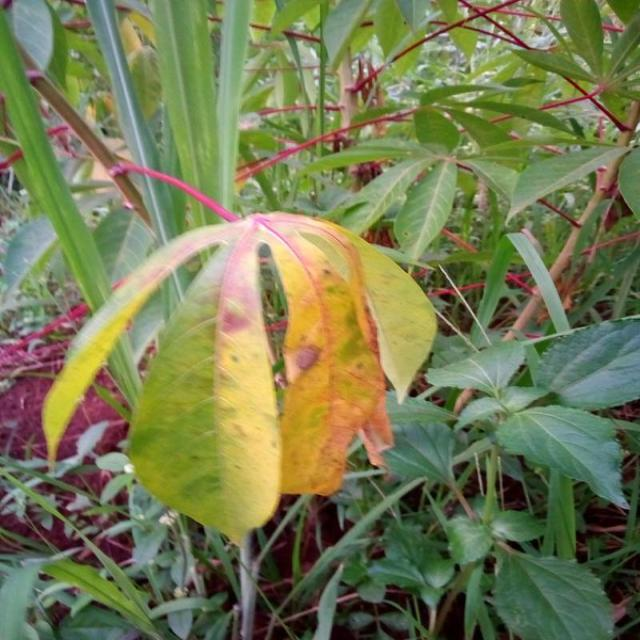cassava leaf: (40, 207, 438, 545)
